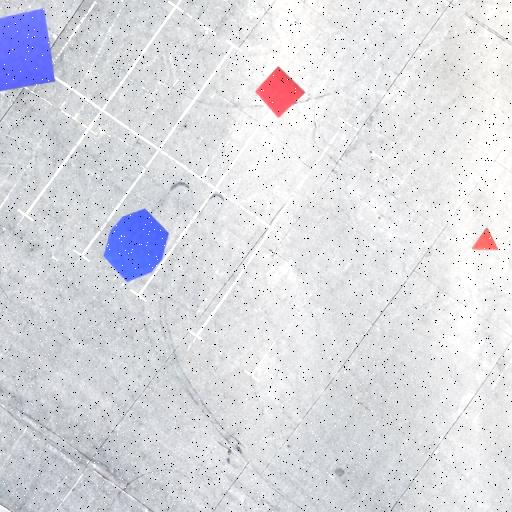BLUE_SQUARE: (0, 8, 56, 95)
RED_SQUARE: (254, 66, 306, 118)
